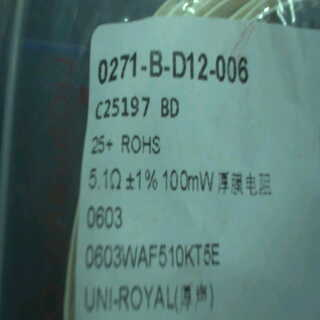5.1R: (84, 163, 124, 199)
